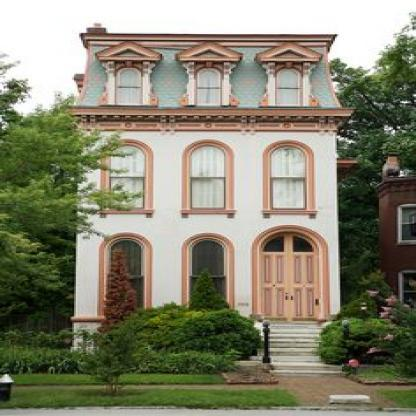Building Outline: (56, 22, 356, 370)
Cornice: (100, 139, 153, 210), (263, 139, 316, 210), (182, 139, 234, 210), (79, 33, 337, 41), (254, 41, 323, 61), (93, 41, 162, 61), (175, 41, 243, 61)
Door: (263, 253, 314, 321)
Facade: (58, 23, 360, 372)
Floor Slab: (76, 218, 338, 226)
Molding: (81, 116, 337, 131)
Roof: (72, 46, 340, 108)
Sill: (261, 210, 315, 213), (99, 210, 153, 213), (180, 210, 234, 213)
Window: (108, 238, 145, 315), (189, 239, 226, 315), (271, 145, 307, 210), (109, 145, 145, 210), (190, 145, 226, 210), (116, 68, 141, 105), (197, 68, 222, 105), (277, 68, 301, 105), (263, 236, 284, 252), (293, 236, 314, 252)
